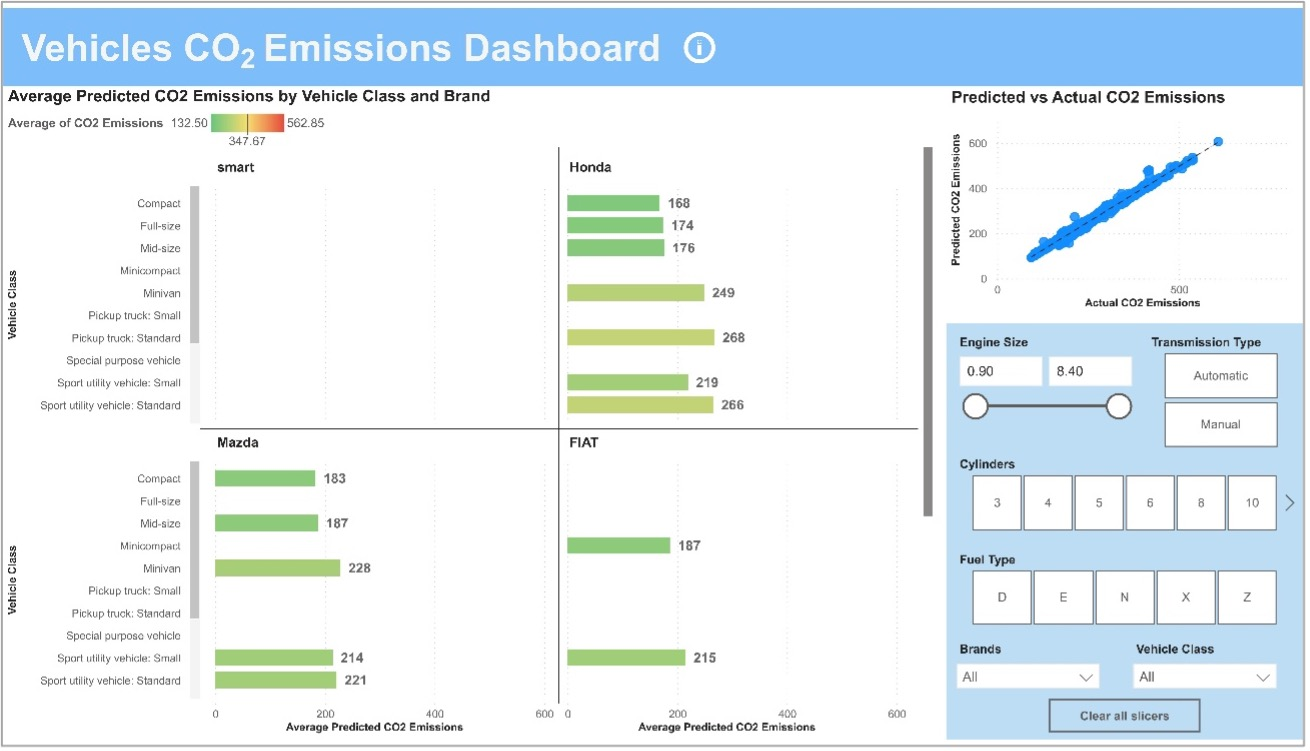

The dashboard page shown, as its layout file describes it:
{"tool":"powerbi","page":{"name":"Predictive","canvas":[1280,720],"ordinal":1},"visuals":[{"type":"shape","box":[929.3,309.8,350.7,410.4],"z":0},{"type":"slicer","fields":{"Values":["Predicted CO2 Emissions with Residuals.Cylinders"]},"box":[929.5,437.2,349.4,83.7],"z":2000},{"type":"slicer","fields":{"Values":["Predicted CO2 Emissions with Residuals.Vehicle_Make"]},"box":[929.5,619.3,160.6,60],"z":3000},{"type":"actionButton","box":[1030,680.4,149.4,33.2],"z":4000},{"type":"slicer","fields":{"Values":["Predicted CO2 Emissions with Residuals.Vehicle_Class"]},"box":[1102.5,619.3,160.7,60.3],"z":5000},{"type":"slicer","fields":{"Values":["Predicted CO2 Emissions with Residuals.Transmission_Type"]},"box":[1118.5,316.5,160.6,121.7],"z":6000},{"type":"slicer","fields":{"Values":["Predicted CO2 Emissions with Residuals.Fuel_Type"]},"box":[929.5,531,349.4,82.6],"z":7000},{"type":"slicer","fields":{"Values":["Predicted CO2 Emissions with Residuals.Engine_Size"]},"box":[929.5,316.8,190.9,92.7],"z":8000},{"type":"shape","title":"Vehicles'' CO2 Emissions Dashboard","box":[0,0,1280,77.4],"z":9000},{"type":"textbox","box":[12.6,12.6,654.6,65.2],"z":10000},{"type":"barChart","title":"Average Predicted CO2 Emissions by Vehicle Class and Brand","fields":{"Category":["Predicted CO2 Emissions with Residuals.Vehicle_Class"],"Y":["Avg(Predicted CO2 Emissions with Residuals.Predicted_CO2_Emissions)"],"Rows":["Predicted CO2 Emissions with Residuals.Vehicle_Make"]},"box":[0,77.6,920.5,642.5],"z":11000},{"type":"scatterChart","title":"Predicted vs Actual CO2 Emissions","fields":{"X":["Predicted CO2 Emissions with Residuals.CO2_Emissions"],"Y":["Predicted CO2 Emissions with Residuals.Predicted_CO2_Emissions"]},"box":[929.3,78.5,350.7,222.4],"z":12000},{"type":"actionButton","box":[666.4,19.5,40,40.2],"z":13000}]}

Visuals, with their boxes in screenshot pixels (x1, y1, x2, y2), scaled from the page's 1280x720 canvas onto the 1310x751 screenshot:
shape: 951:323:1309:750
slicer - Predicted CO2 Emissions with Residuals.Cylinders: 951:456:1309:543
slicer - Predicted CO2 Emissions with Residuals.Vehicle_Make: 951:646:1116:709
actionButton: 1054:710:1207:744
slicer - Predicted CO2 Emissions with Residuals.Vehicle_Class: 1128:646:1293:709
slicer - Predicted CO2 Emissions with Residuals.Transmission_Type: 1145:330:1309:457
slicer - Predicted CO2 Emissions with Residuals.Fuel_Type: 951:554:1309:640
slicer - Predicted CO2 Emissions with Residuals.Engine_Size: 951:330:1147:427
"Vehicles'' CO2 Emissions Dashboard" shape: 0:0:1309:81
textbox: 13:13:683:81
"Average Predicted CO2 Emissions by Vehicle Class and Brand" barChart: 0:81:942:750
"Predicted vs Actual CO2 Emissions" scatterChart: 951:82:1309:314
actionButton: 682:20:723:62
